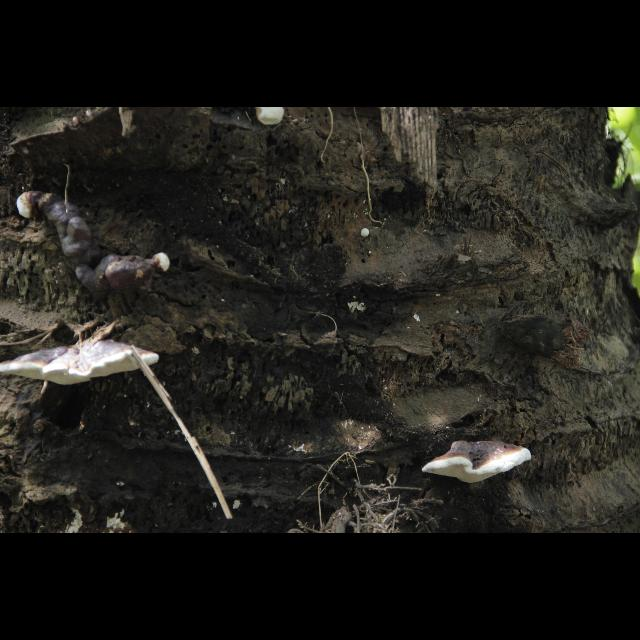ganoderma: (44, 193, 152, 299), (2, 339, 161, 387), (422, 441, 532, 485)
primordium: (17, 191, 43, 219), (257, 108, 286, 126), (153, 254, 171, 277), (362, 230, 371, 239)
